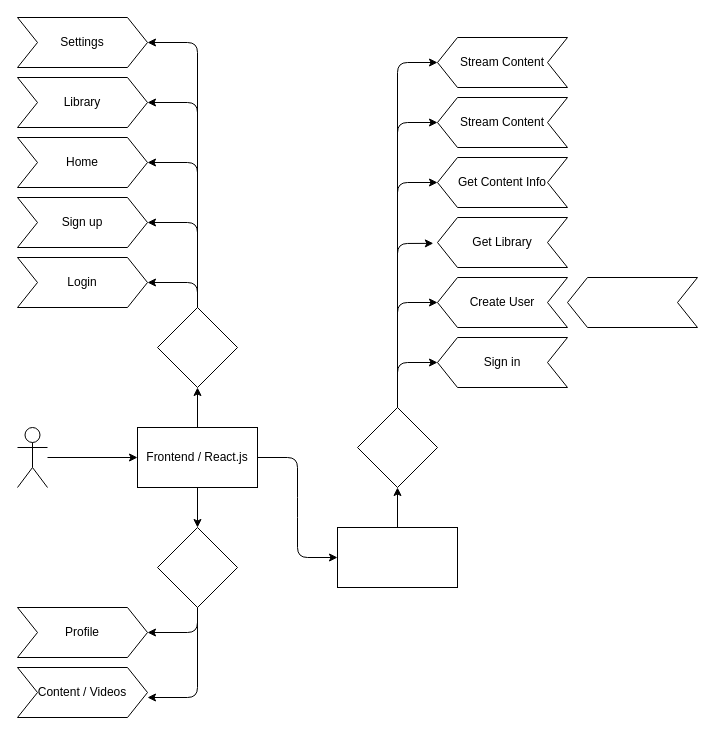
Image size: 715x735. Some labels were removed from this diagram. Each missing label, with the centre of its shape:
"Backend / API / Express.js" goes at pixel 397 557.
"Edit User" goes at pixel 632 302.
"Pages" goes at pixel 197 347.
"Redux" goes at pixel 197 567.
"Routes" goes at pixel 397 447.
"User" goes at pixel 32 457.
